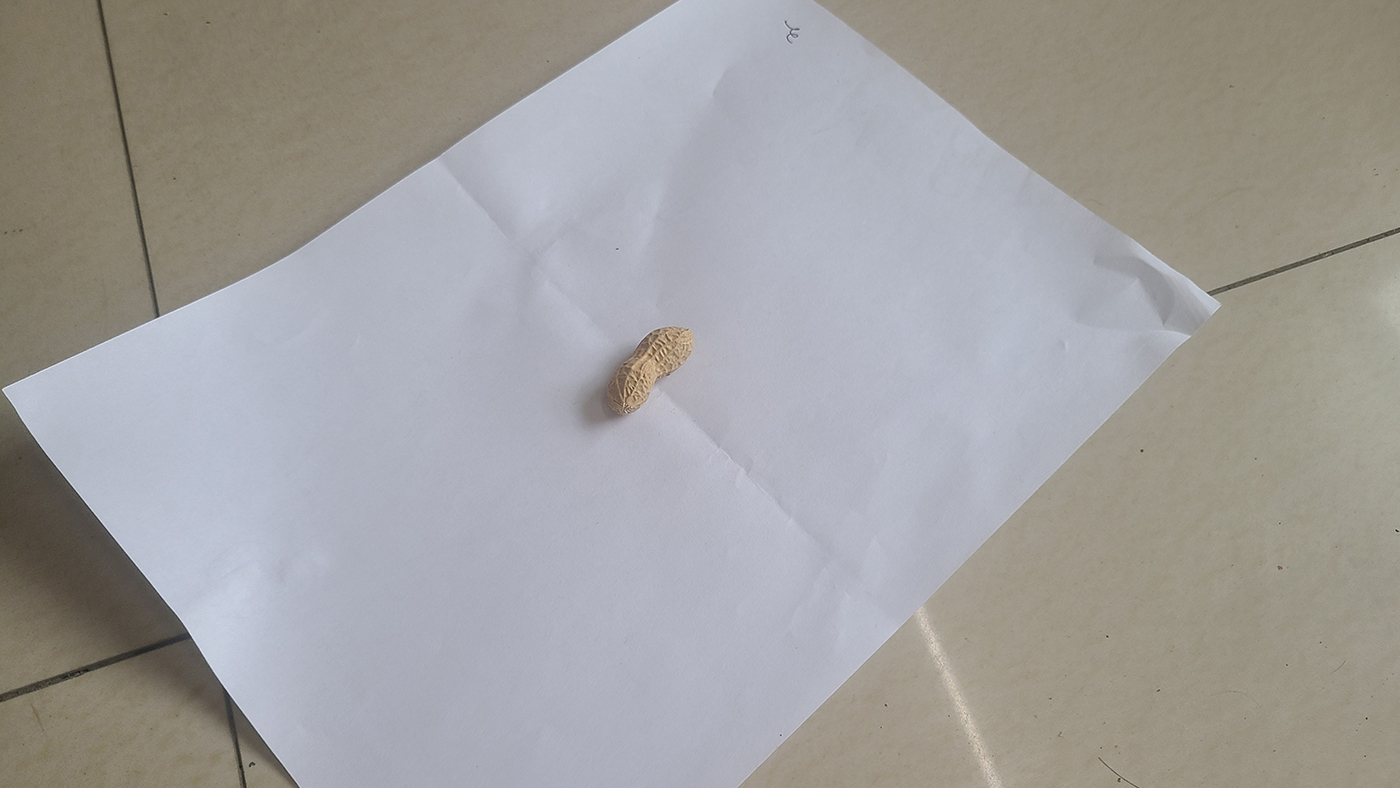h: (605, 324, 692, 414)
